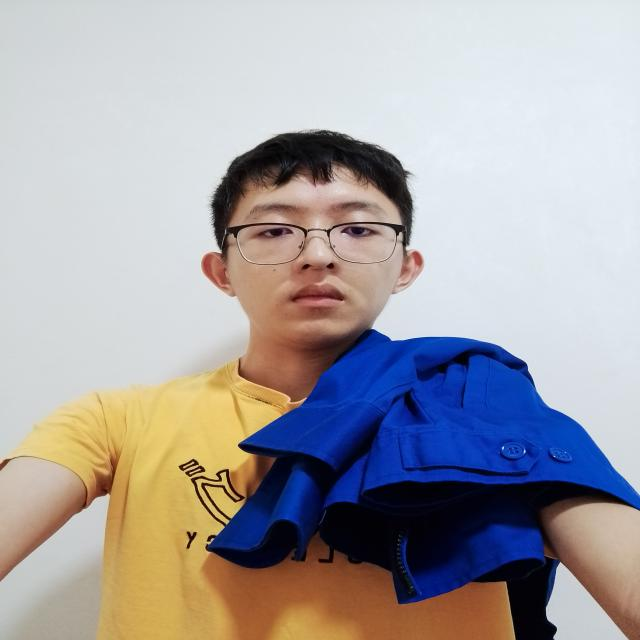person_without_labcoat: (0, 131, 640, 640)
